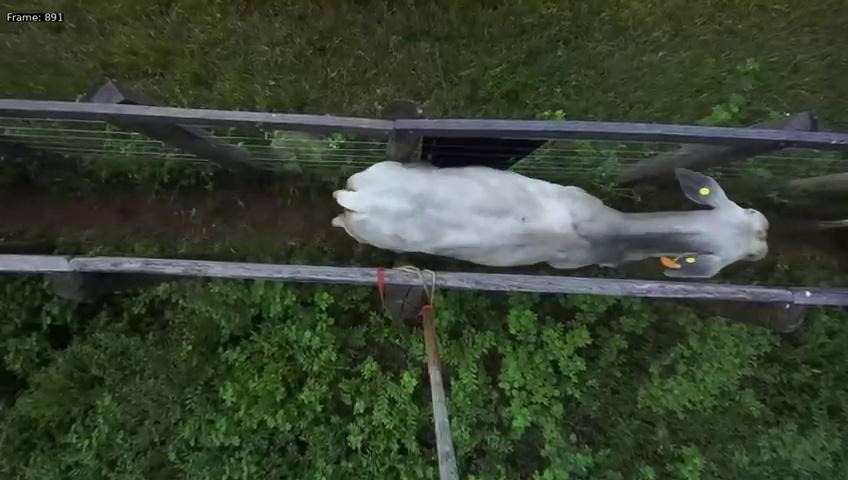cattle: (329, 151, 771, 279)
